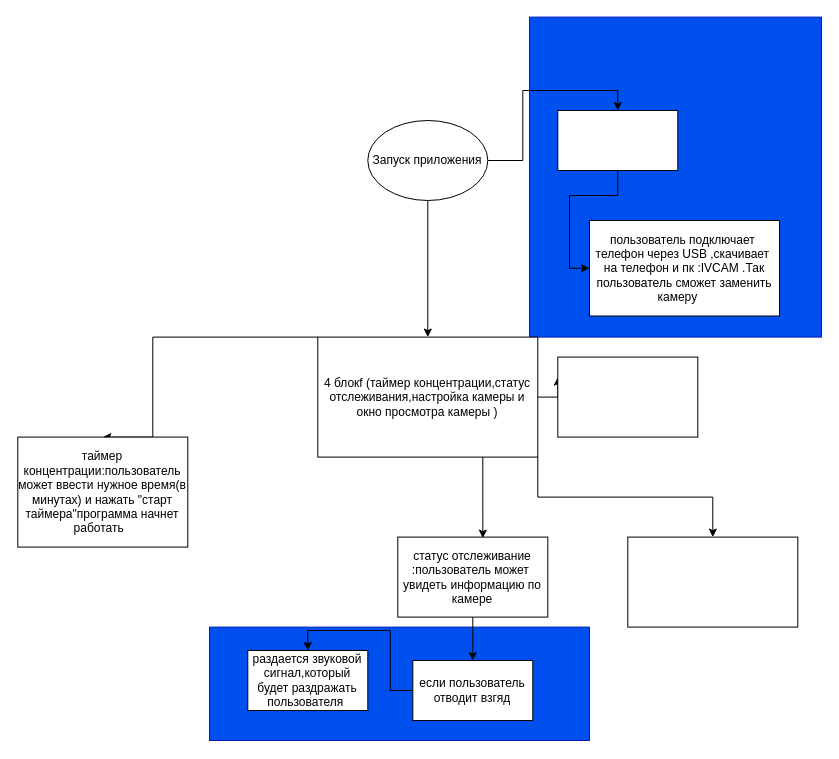
This 839x759 diagram has some shape labels left out. The box of each missing label's shape, as (x1, y1, x2, y2) in pixels:
в случае отсутствия камеры: (557, 110, 678, 170)
настройки камеры :пользователь может выбрать какая камера будет использоваться: (557, 356, 698, 437)
окно просмотра:пользователь,по желанию ,может просмотреть на себя: (627, 536, 798, 627)
